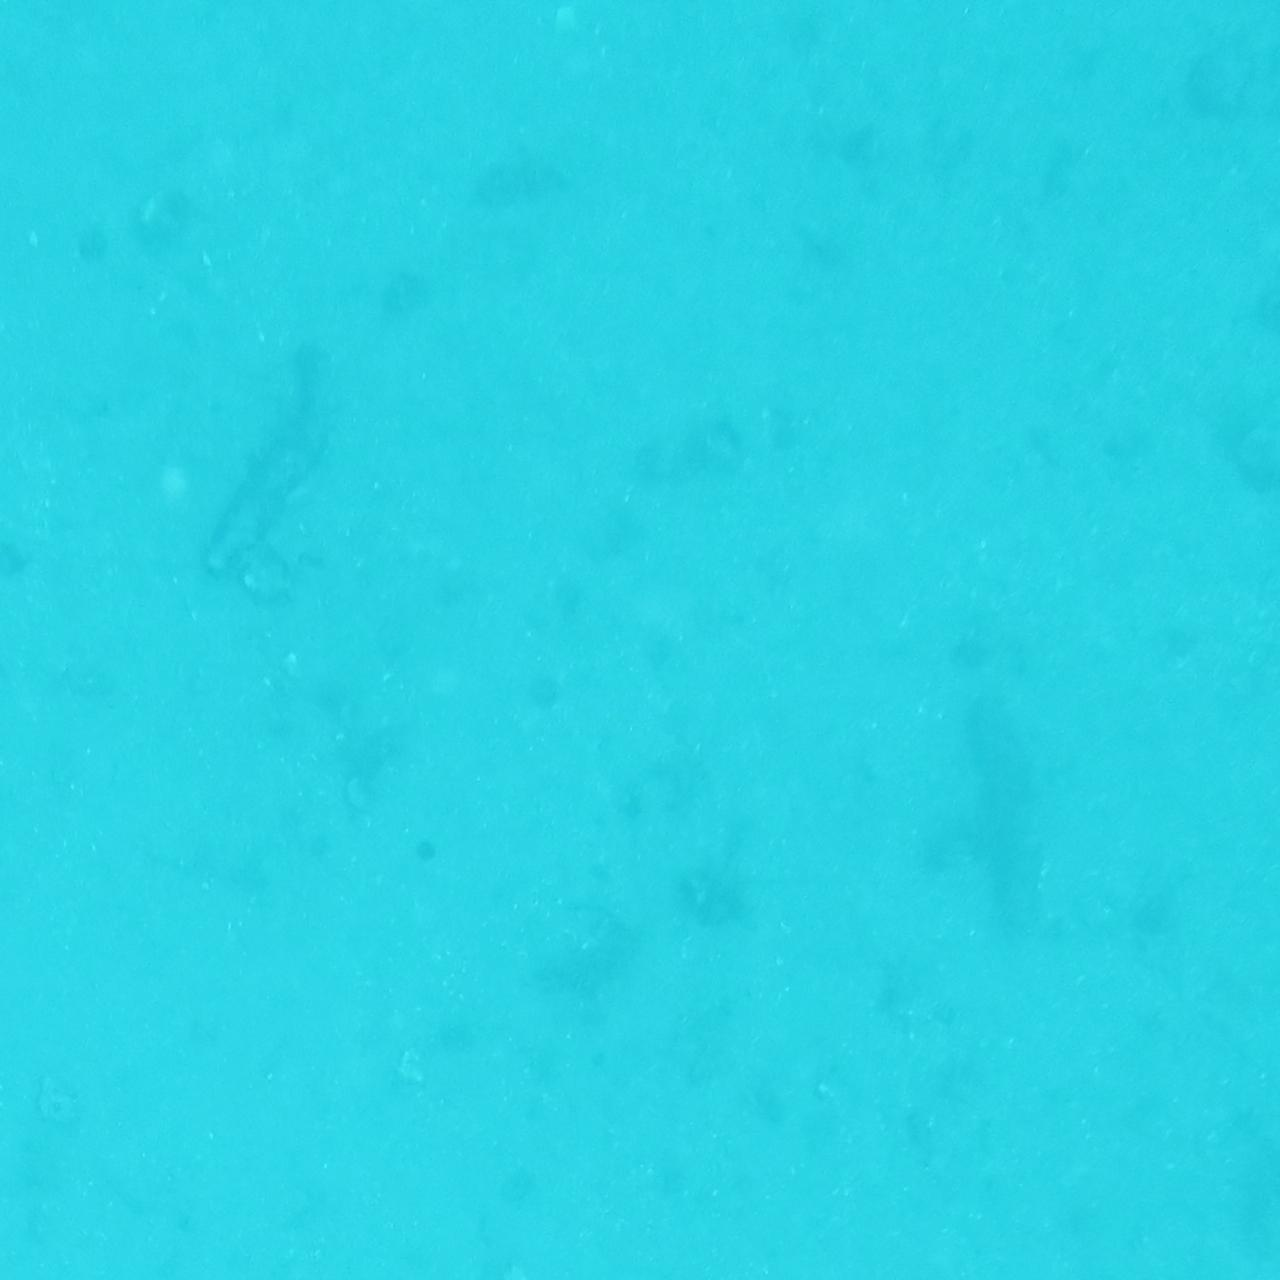Holothuria tubulosa: (206, 333, 366, 590), (921, 689, 1067, 949)
